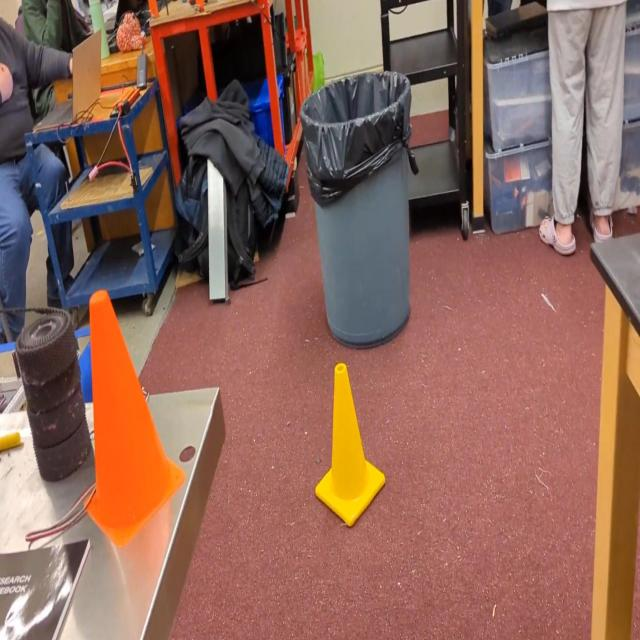frc_cone: (315, 363, 386, 527)
